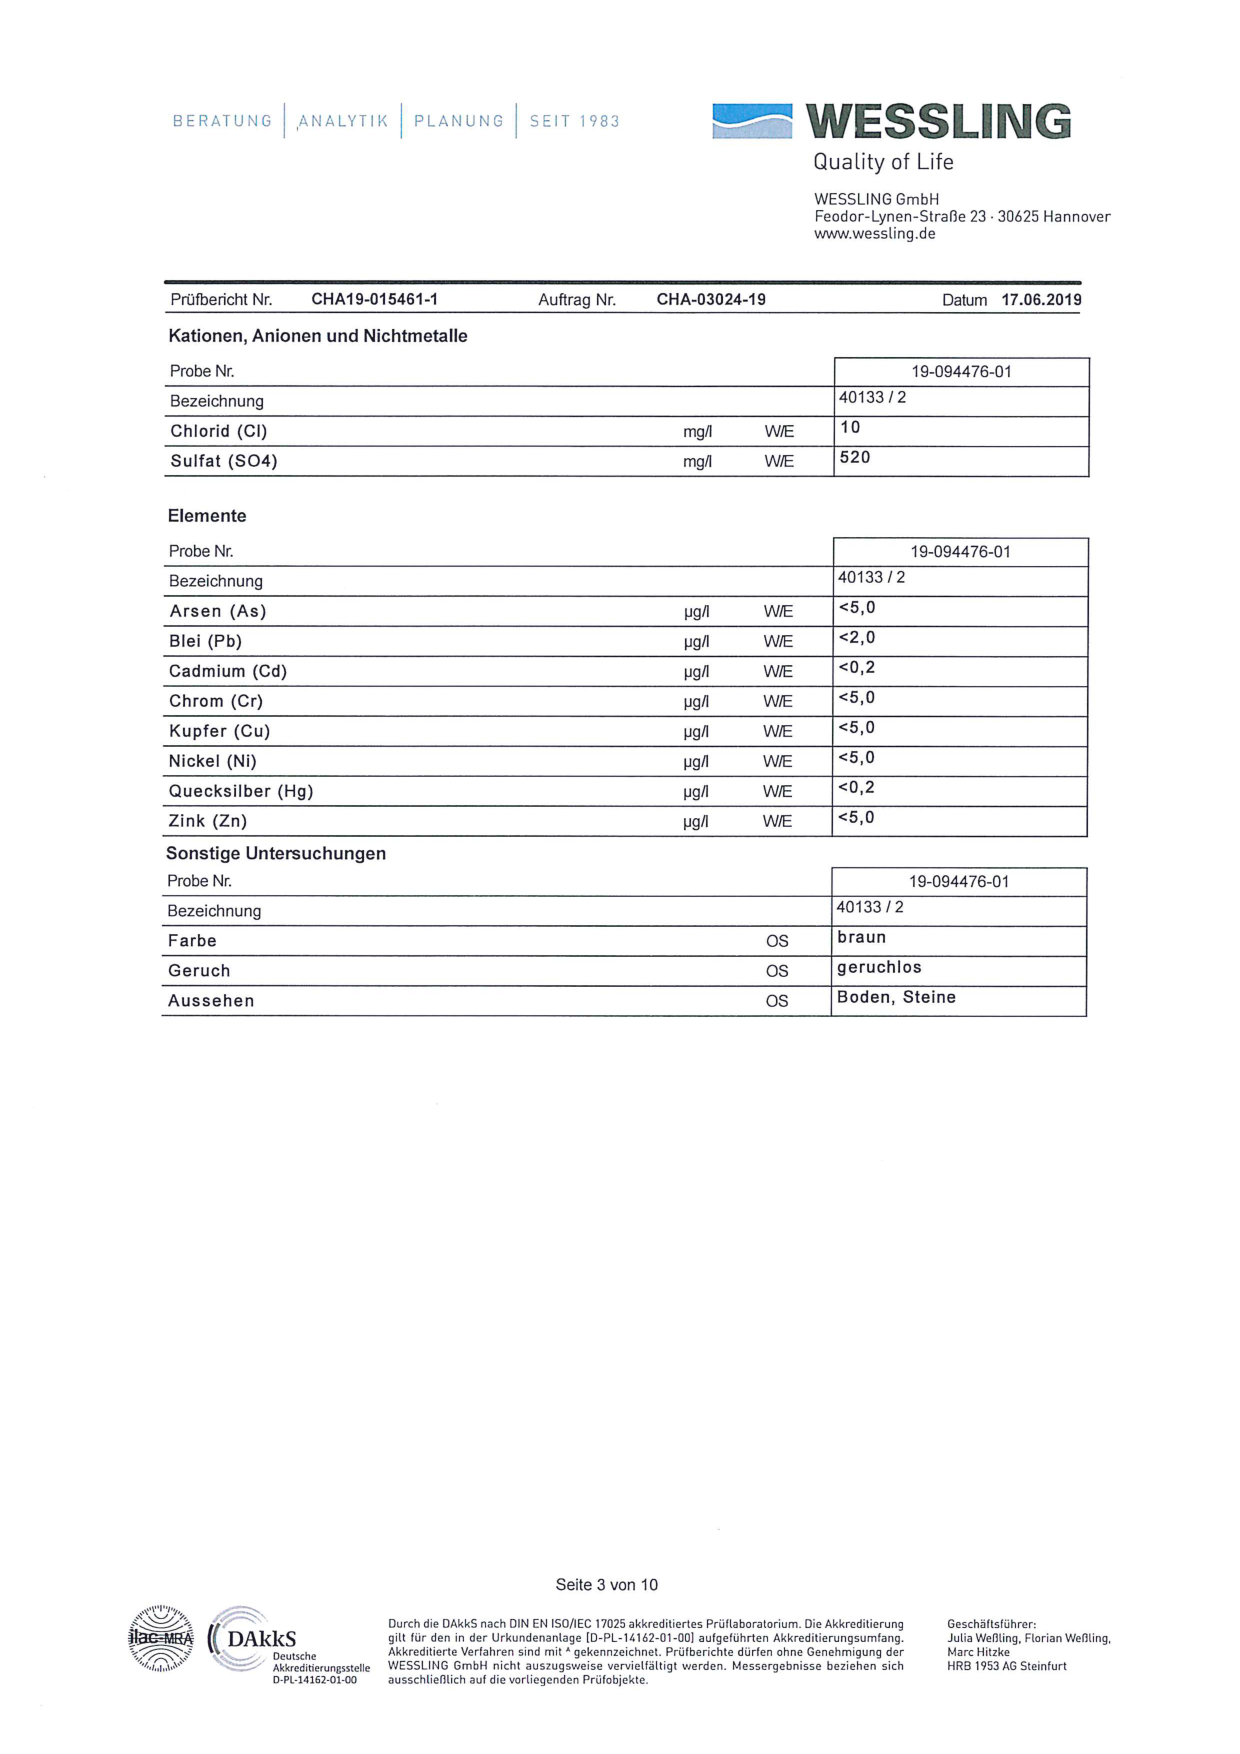table: (148, 529, 1096, 841), (149, 843, 1099, 1037), (158, 356, 1103, 486)
